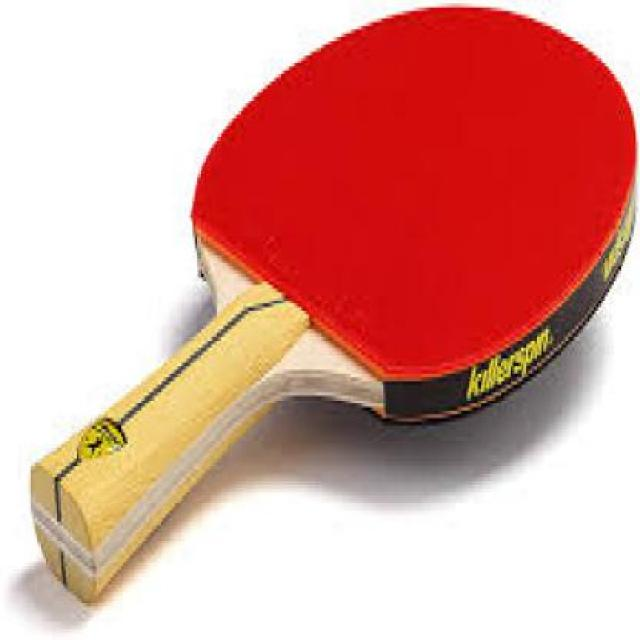table_tennis_racket: (182, 0, 638, 426)
